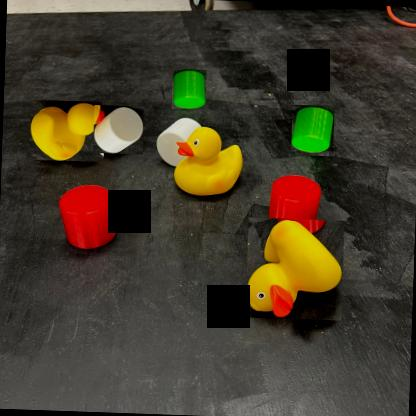duck: (246, 217, 344, 321), (172, 125, 245, 198), (29, 100, 106, 162)
green cylinder: (291, 105, 335, 156), (171, 69, 207, 110)
red cylinder: (56, 183, 120, 252), (266, 173, 320, 234)
white cylinder: (92, 105, 144, 155), (156, 116, 204, 169)
